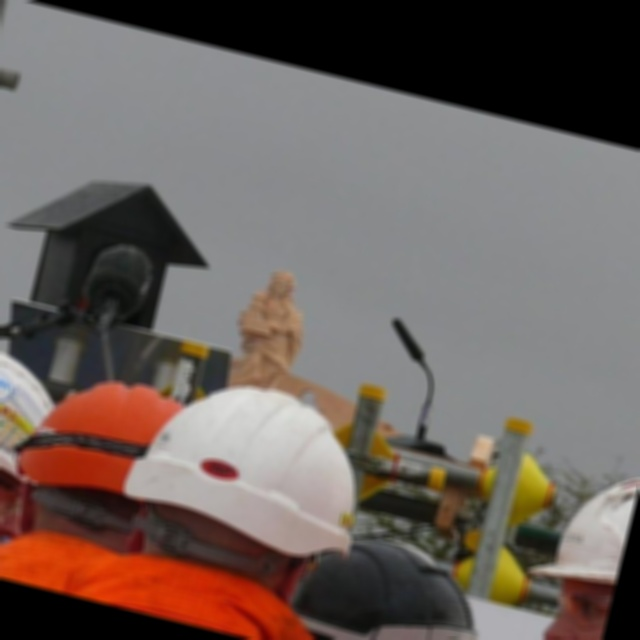Con_Casco: (132, 364, 382, 571), (17, 362, 195, 560), (0, 327, 62, 535)
